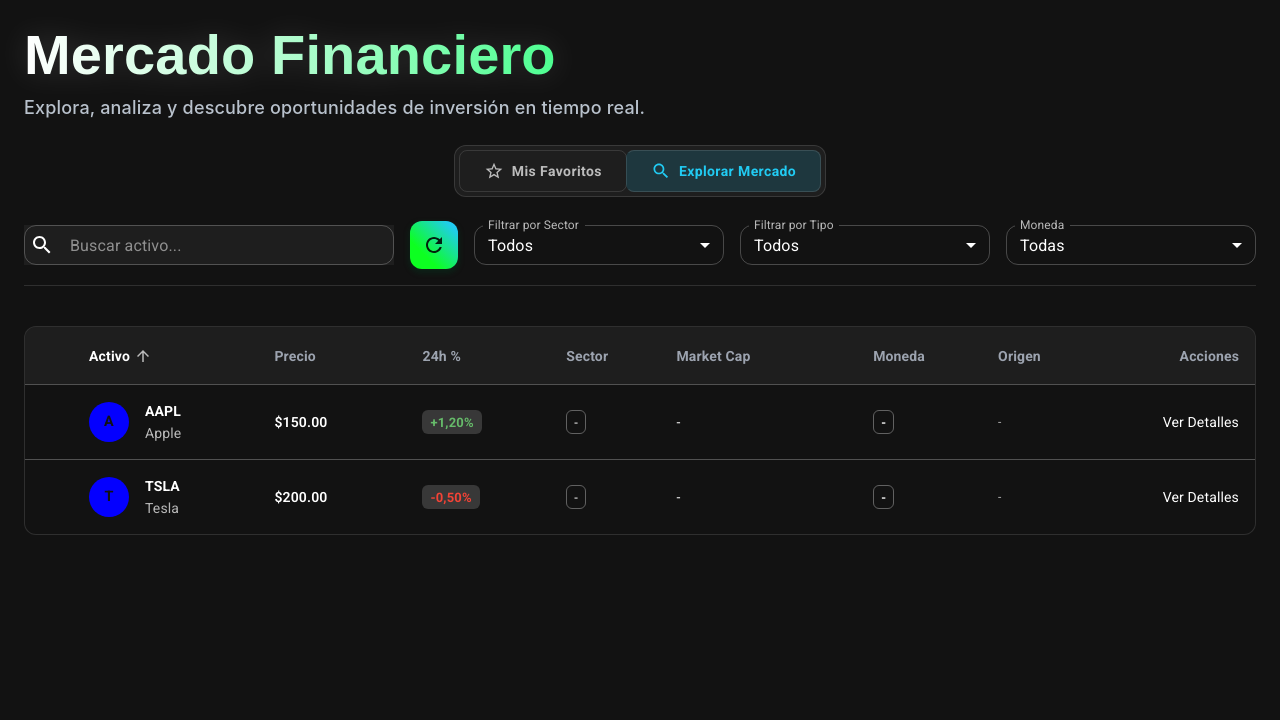
Scenario: Activos Page › shows login warning when switching to favorites if not logged in
The width and height of the screenshot is (1280, 720).
What coordinates should you click on to do the following:
click the button "Mis Favoritos"
I would click on:
 (543, 171)
Its box is [459,150,627,192].
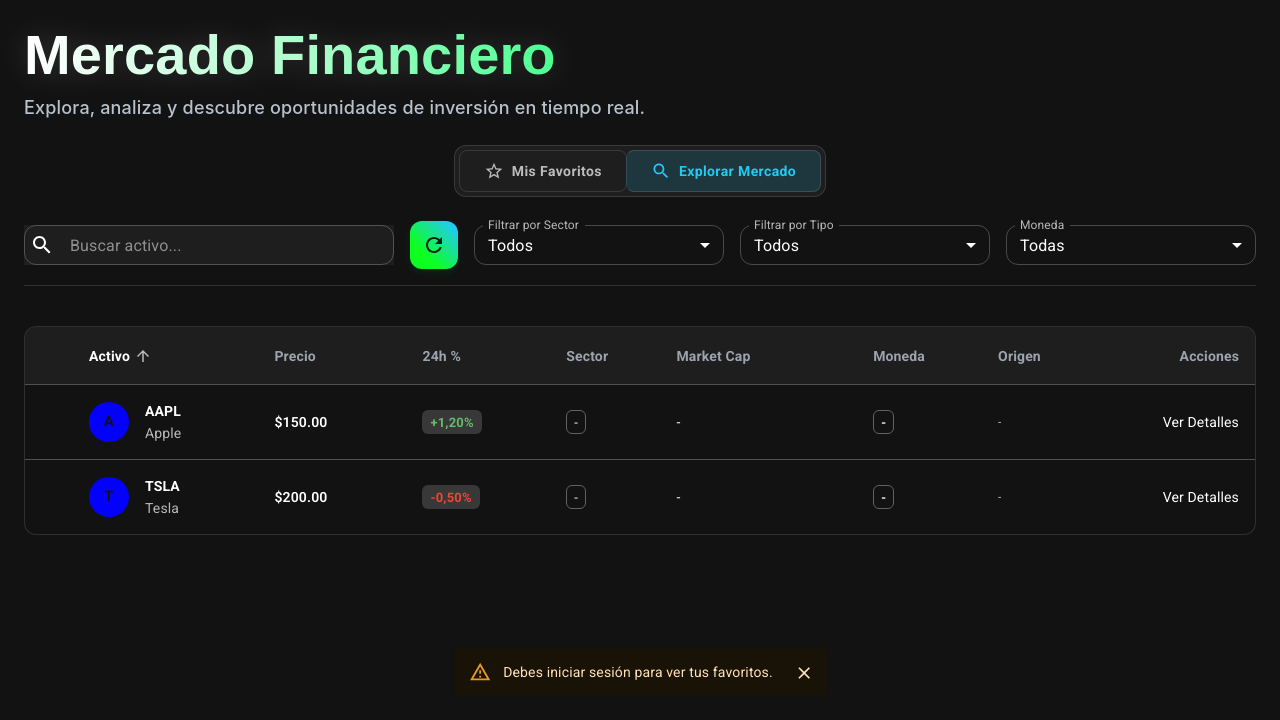
Expected: the text "Debes iniciar sesión para ver tus favoritos." is shown, [503,664,773,680]
